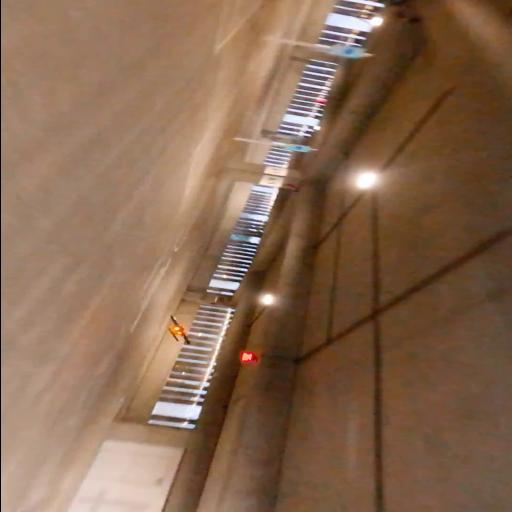uav: (159, 312, 197, 348)
